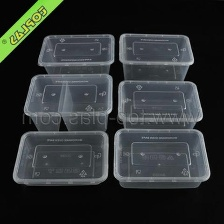plastic_box: (108, 122, 216, 193), (8, 124, 113, 193), (17, 70, 118, 140), (114, 75, 209, 137), (33, 30, 119, 88), (114, 28, 198, 86)
